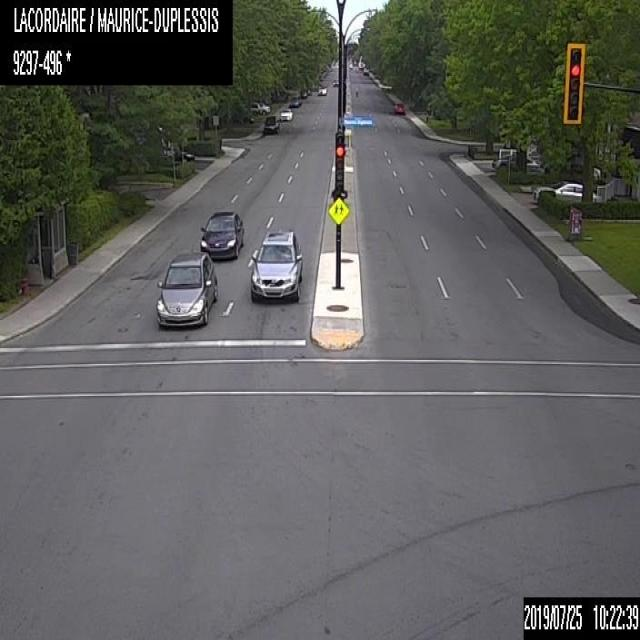cyclist: (355, 85, 357, 96)
vehicle: (155, 250, 216, 326), (248, 230, 303, 302), (199, 211, 244, 261), (530, 179, 604, 207), (492, 152, 542, 170), (263, 114, 280, 135), (174, 144, 194, 161), (279, 108, 293, 120), (260, 99, 270, 115), (316, 84, 328, 95), (289, 96, 301, 106), (392, 103, 404, 113), (250, 100, 259, 113), (298, 87, 306, 97), (363, 66, 368, 74), (332, 77, 337, 85), (306, 87, 310, 94)
